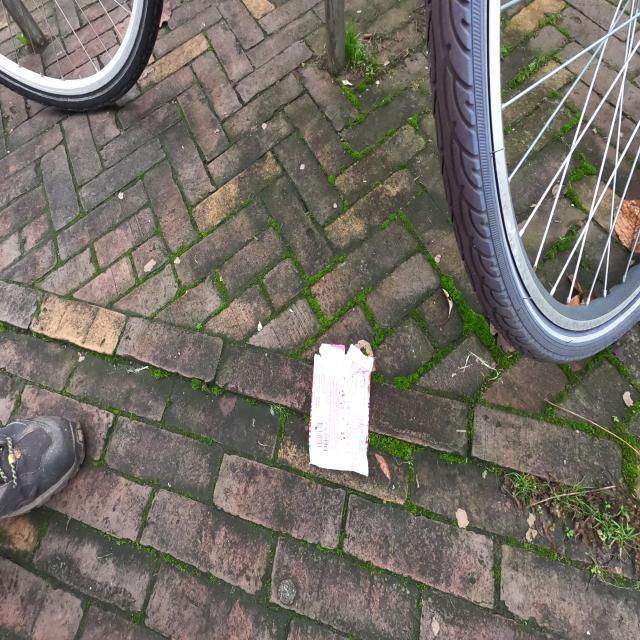Plastic: (308, 340, 374, 477)
